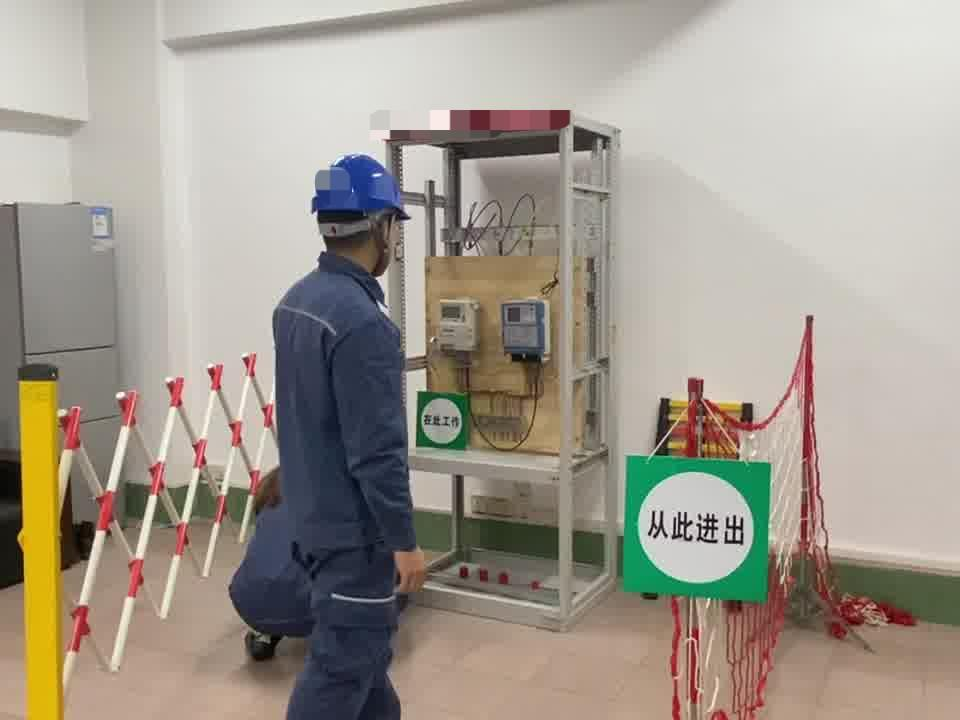halt: (311, 154, 414, 274)
inear: (366, 214, 399, 265)
